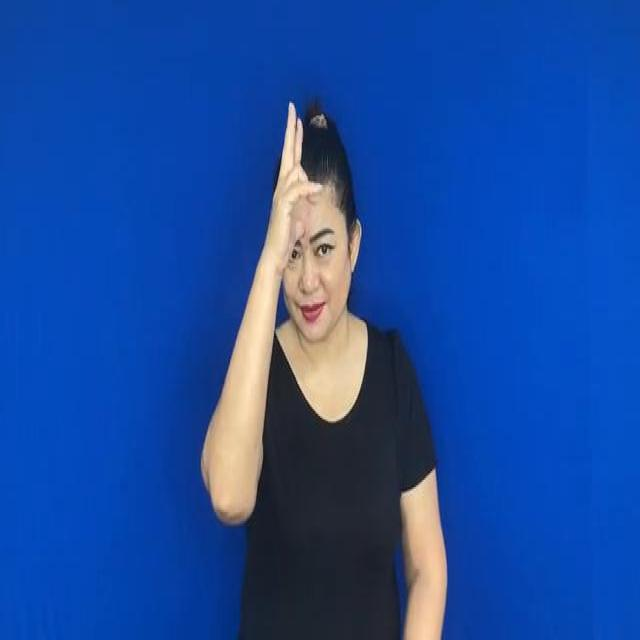chicken: (268, 84, 318, 237)
